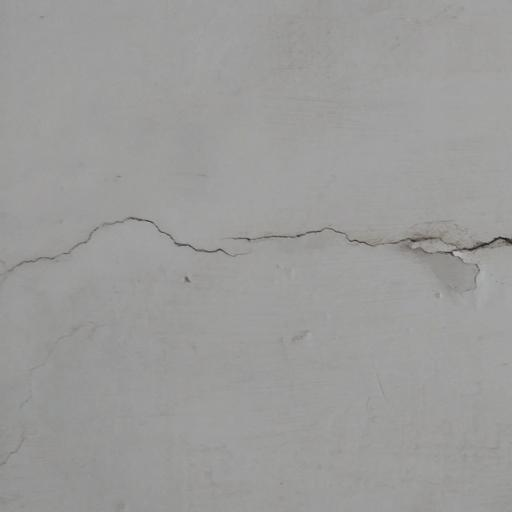major_crack: (4, 194, 512, 306)
